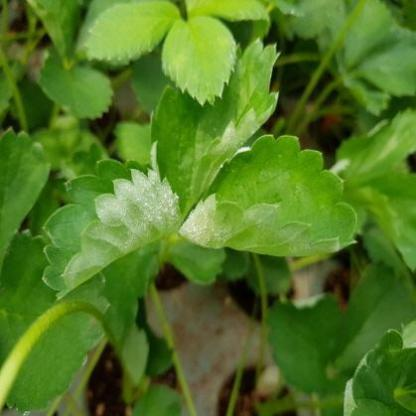Strawberry_Powdery_Mildew_Leaf: (150, 37, 282, 218), (178, 134, 359, 258), (42, 157, 183, 301)
